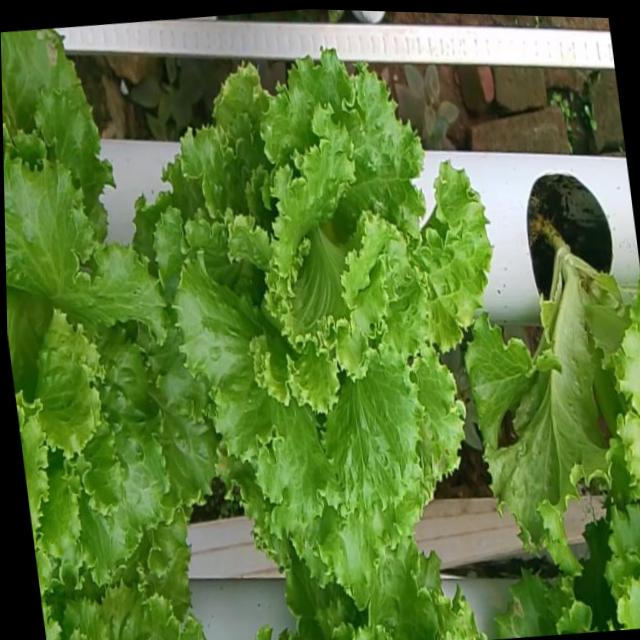Mature: (158, 27, 496, 569), (3, 128, 220, 567)
